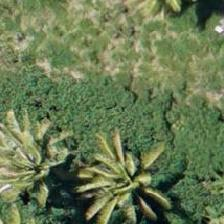coconut_tree: (87, 132, 177, 222), (0, 119, 79, 209)
